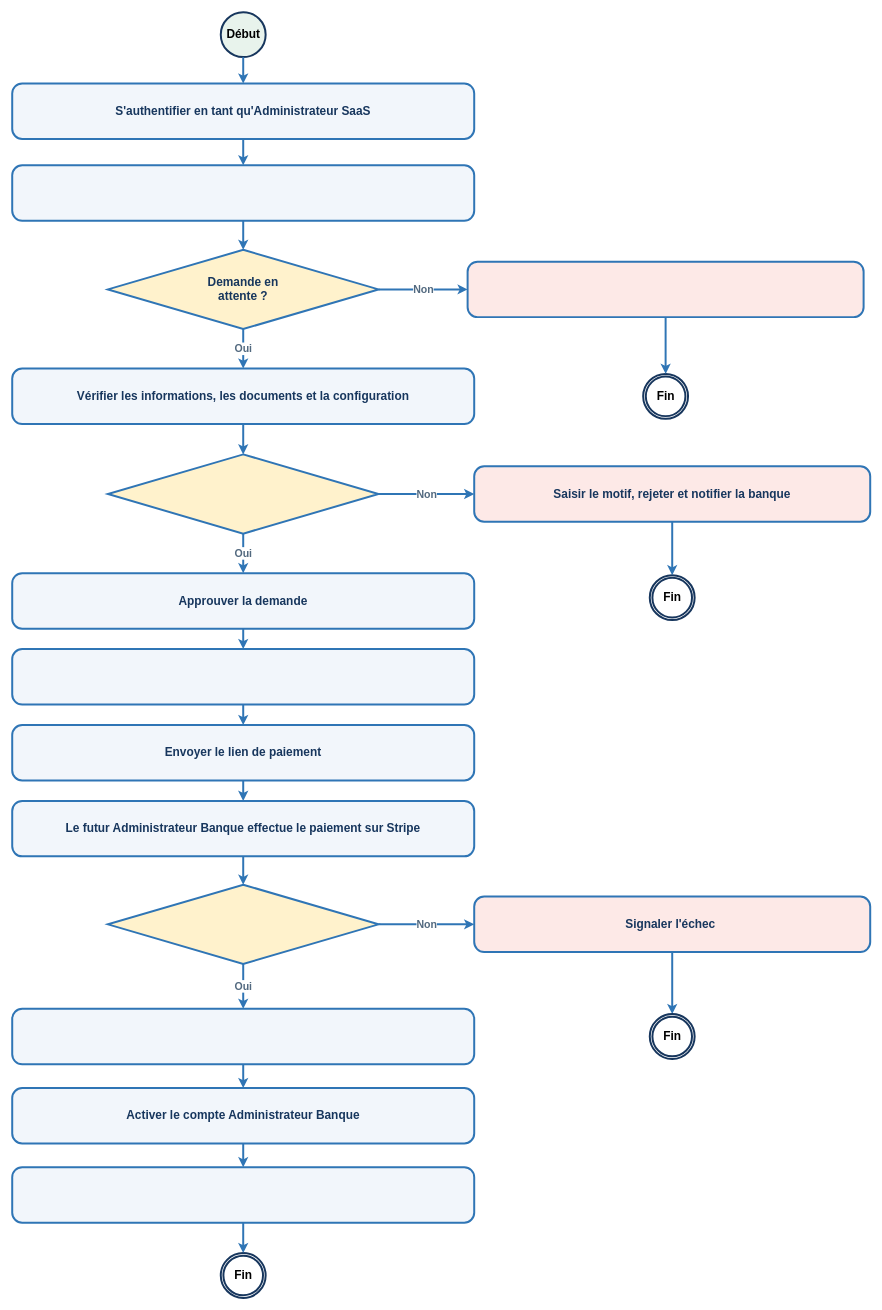
This 882x1310 diagram has some shape labels left out. Each missing label, with the centre of its shape:
"Activer la banque, la marketplace et l'abonnement" belongs at point (243, 1036).
"Consulter et sélectionner une demande" belongs at point (243, 192).
"Créer une session de paiement sécurisée Stripe" belongs at point (243, 676).
"Demande admissible ?" belongs at point (243, 493).
"Envoyer les identifiants d'accès au Back-office Banque" belongs at point (243, 1194).
"Paiement Stripe confirmé ?" belongs at point (243, 924).
"Signaler que la demande ne peut plus être traitée" belongs at point (665, 289).
